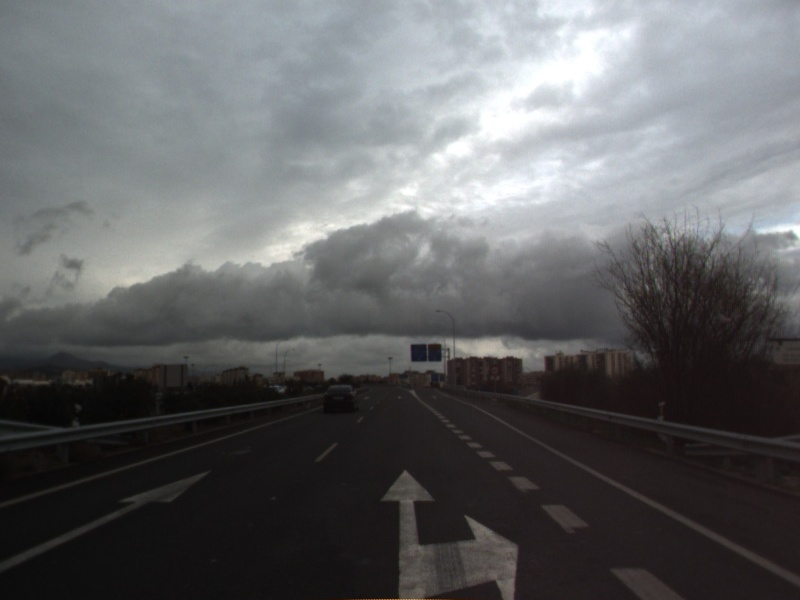STRAIGHT: (1, 468, 215, 570)
STRAIGHT_RIGHT: (375, 466, 523, 600)
